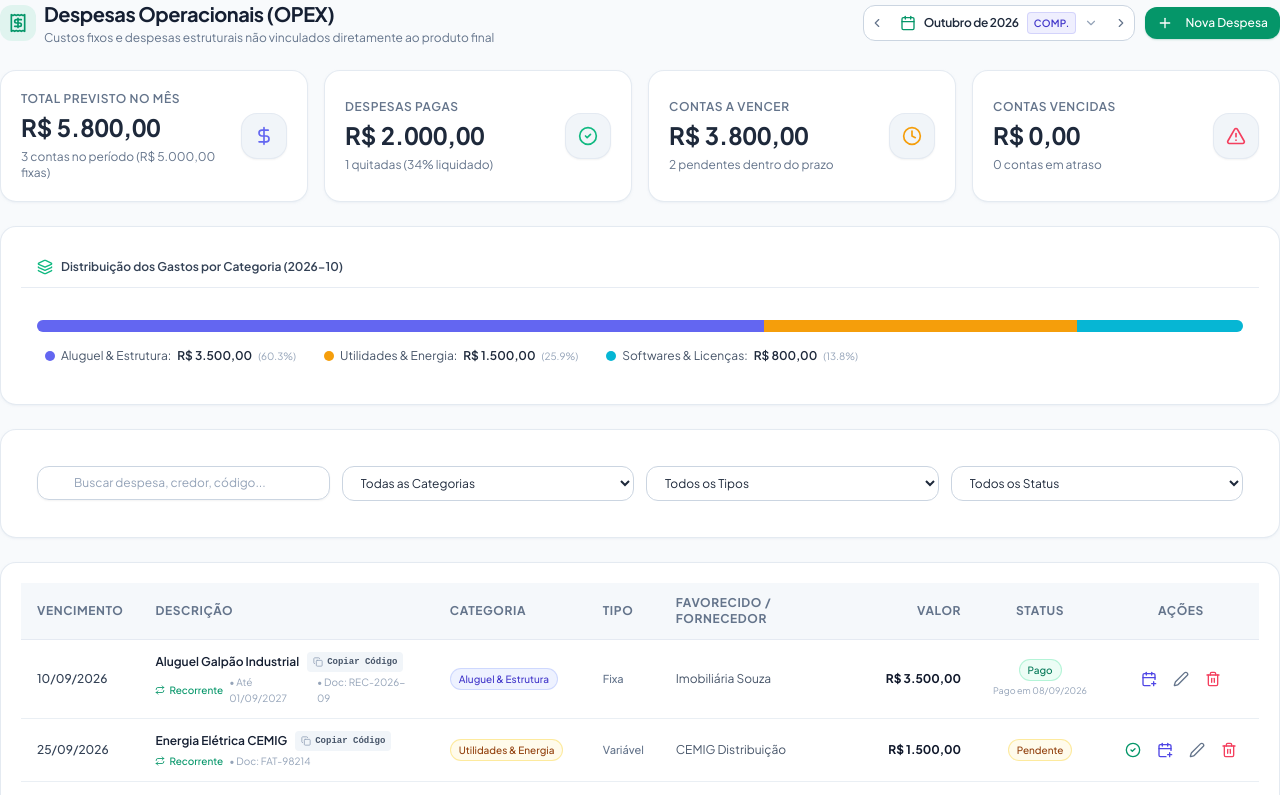
Test: OperatingExpensesPage › should open pay expense modal when clicking Pagar button
Expected: the text "Energia Elétrica CEMIG" is shown, [156,733,287,749]
Click the button titled "registrar pagamento / liquidar despesa" at (1133, 750), box [1119,736,1147,764]
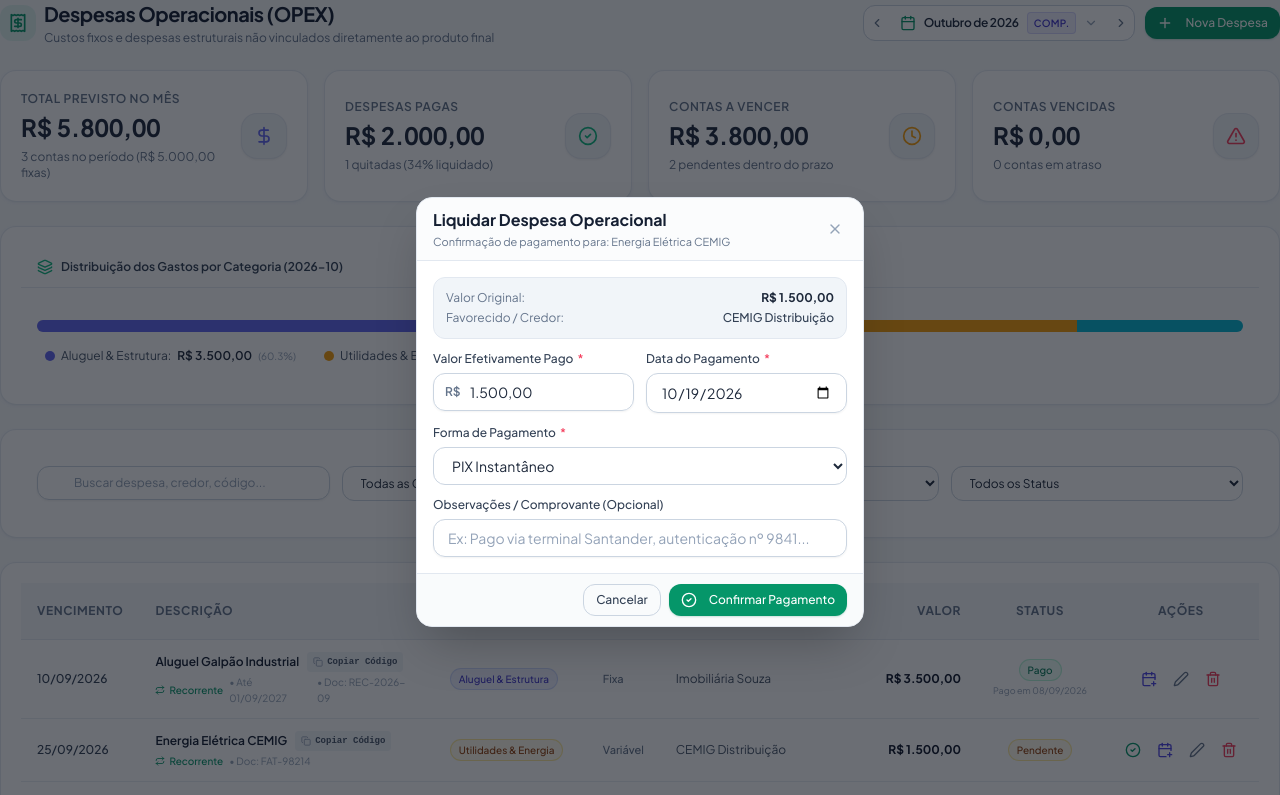
Expected: the heading "Liquidar Despesa Operacional" is shown, [433,209,666,230]
Expected: the button "Confirmar Pagamento" is shown, [669,584,847,616]
